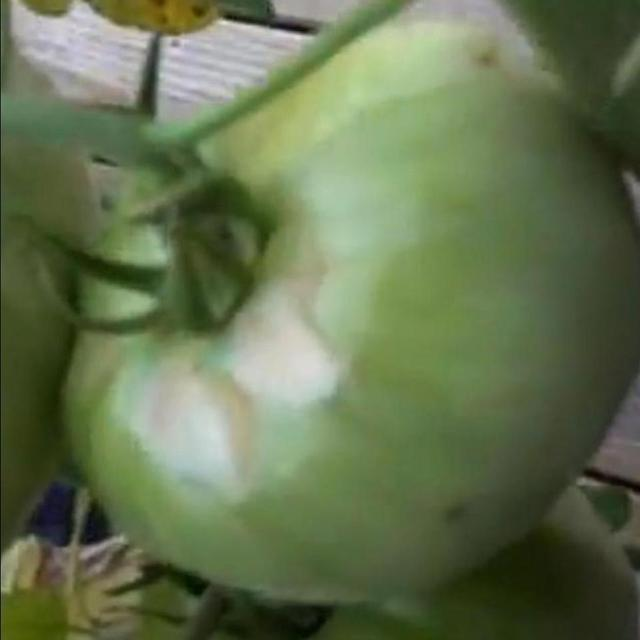Sunscald Fruit: (82, 167, 246, 355)
